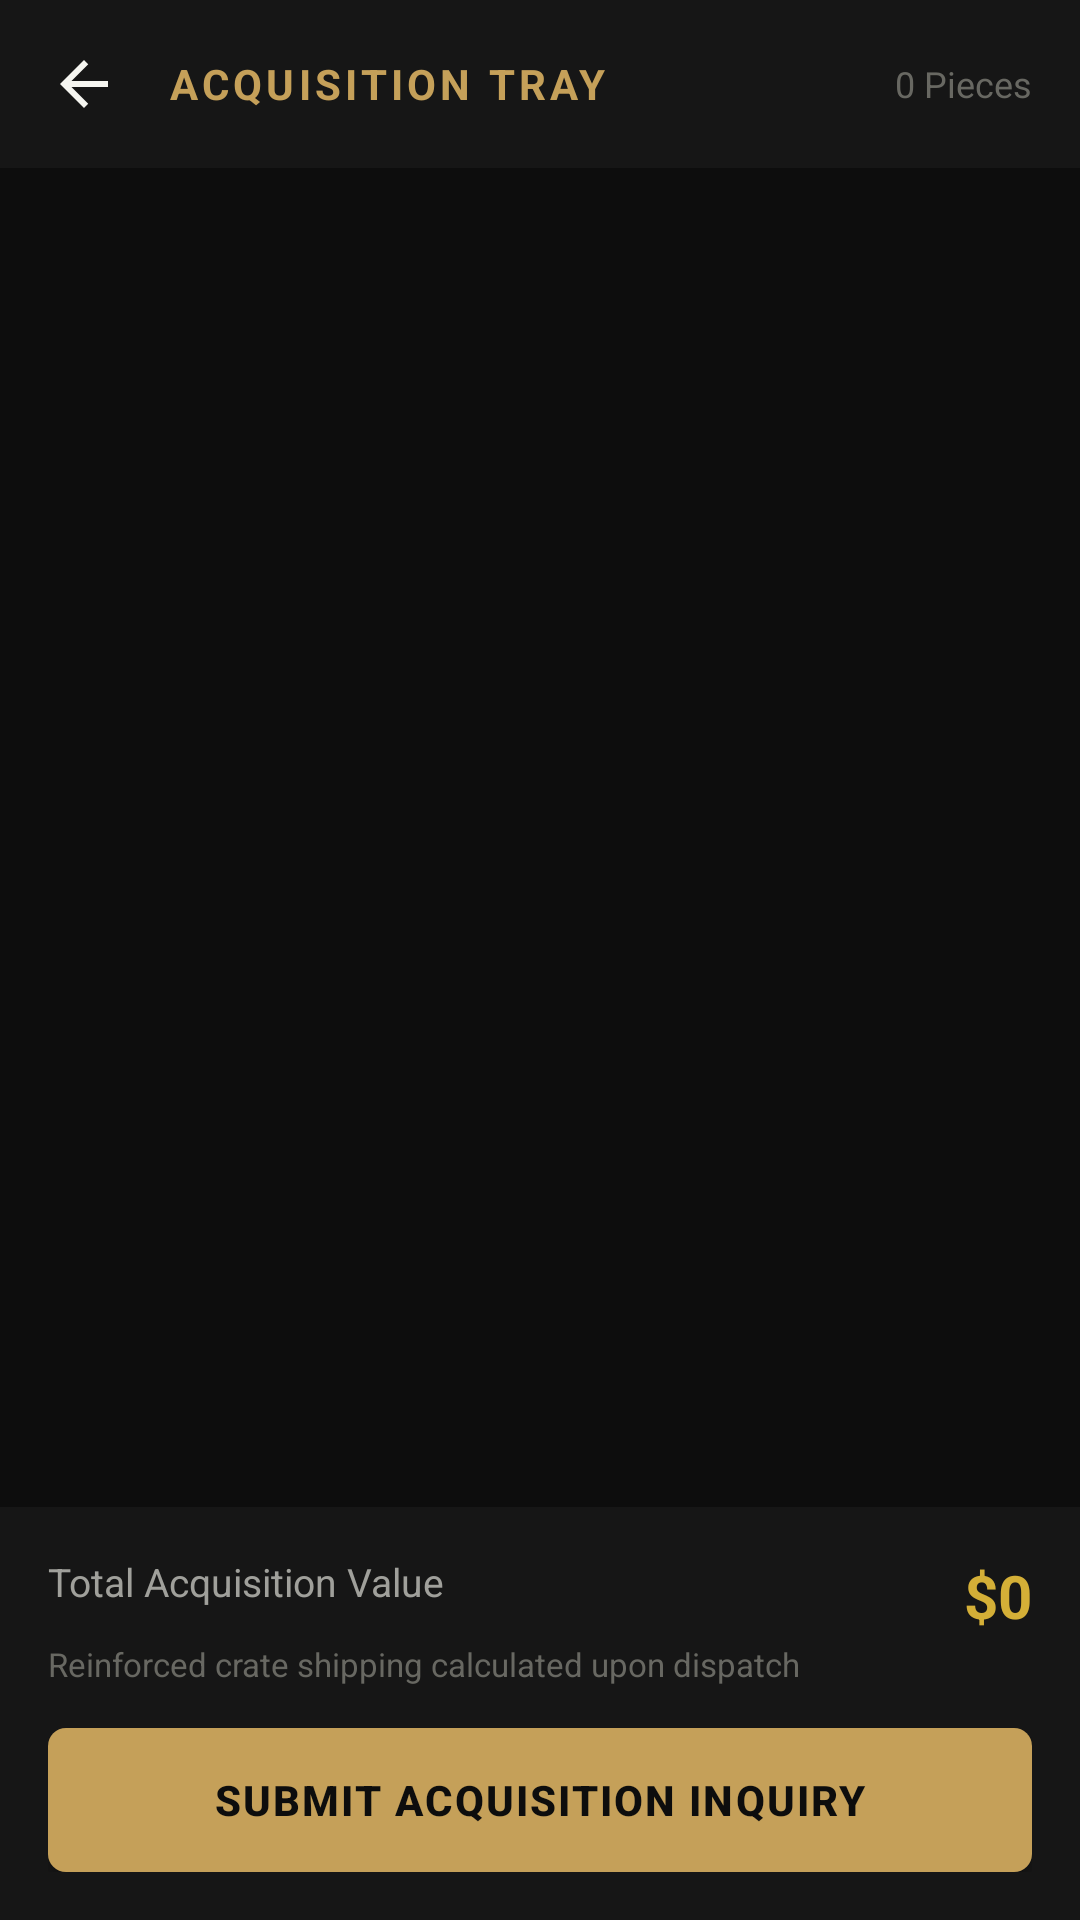

Icons on this 1080w x 1920h Android screen, each with the point to tap as [x,y]:
Back: [84,84]
